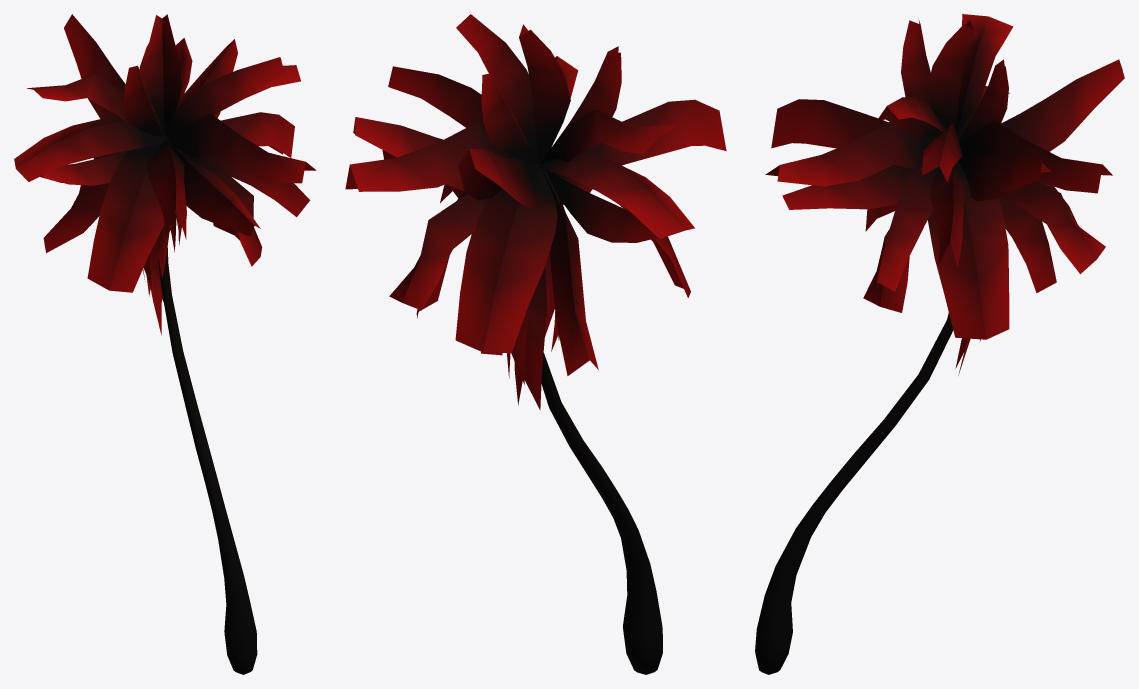
File: TAI_Palm_Tree_02B.fbx
The picture shows the model from 3 angles, left to right: view 1: azimuth 30°, elevation 25°; view 2: azimuth 150°, elevation 25°; view 3: azimuth 270°, elevation 25°; orthographic projection. The views are drawn at different scales.
Visible parts, largest first — view 1: TAI_Palm_Tree_02B_LOD0; view 2: TAI_Palm_Tree_02B_LOD0; view 3: TAI_Palm_Tree_02B_LOD0.
Boxes of the visible parts, left/top/right/bottom form: TAI_Palm_Tree_02B_LOD0: left=14, top=14, right=316, bottom=674; TAI_Palm_Tree_02B_LOD0: left=345, top=14, right=726, bottom=674; TAI_Palm_Tree_02B_LOD0: left=755, top=14, right=1124, bottom=674.
Size of what is drawn, in the model's own units: 821 by 1767 by 900.
